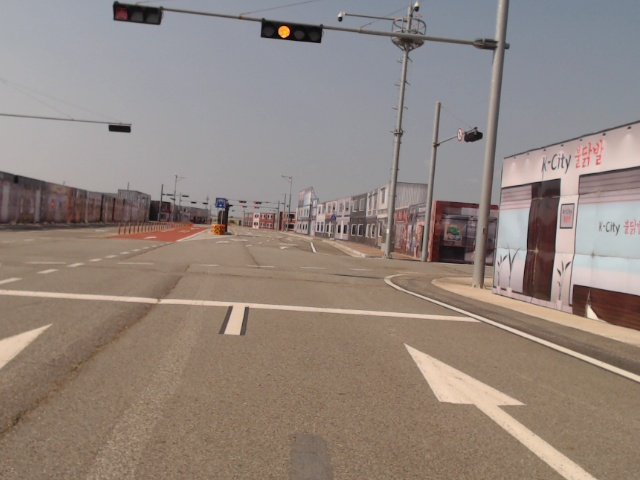orange_4: (262, 19, 326, 45)
